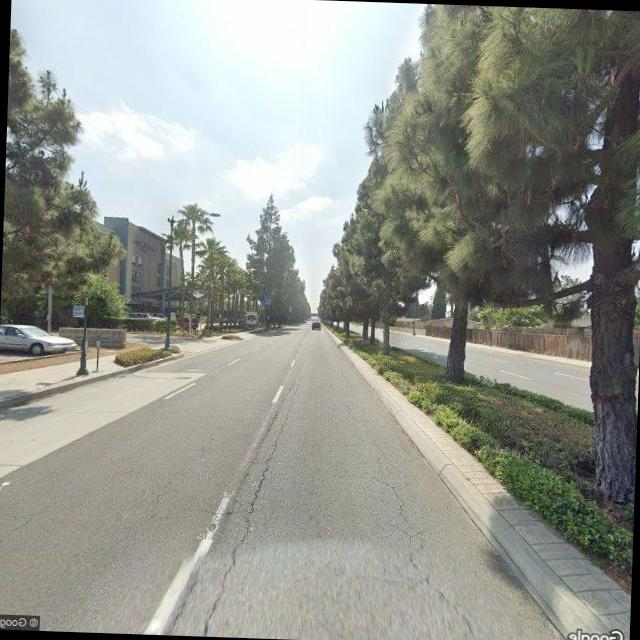crack: (351, 438, 492, 640), (178, 412, 290, 638)
